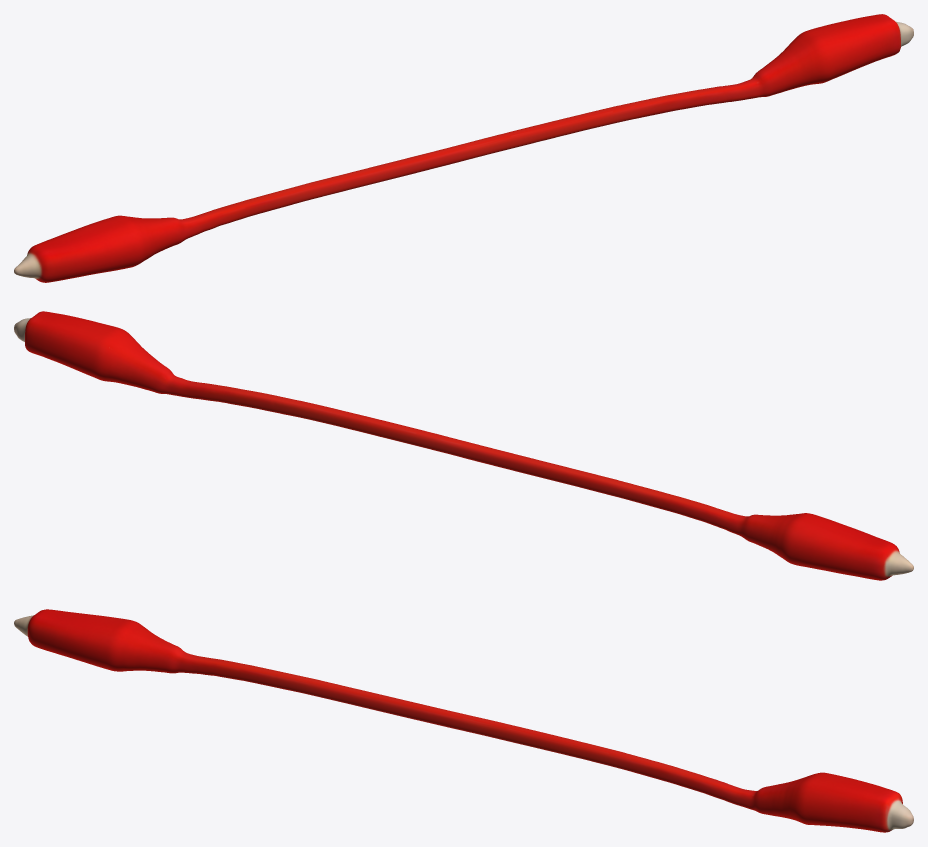
Rendered from base_basic_pbr.fbx.
3 renders of one model, top to bottom at view 1: azimuth 30°, elevation 25°; view 2: azimuth 150°, elevation 25°; view 3: azimuth 330°, elevation 25°, orthographic.
Visible parts, largest first — view 1: model; view 2: model; view 3: model.
Part boxes in pixels (x1,y1,x2,y2): model: (14, 14, 913, 282); model: (14, 311, 913, 580); model: (14, 609, 913, 832).
Bounding box in the file's own units: 190 × 12.25 × 11.2.
Materials: 1 (1 with a texture image).
